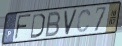7: (95, 6, 107, 33)
B: (44, 10, 62, 38)
C: (76, 8, 92, 34)
D: (29, 13, 46, 40)
F: (14, 13, 33, 41)
V: (63, 8, 79, 37)
